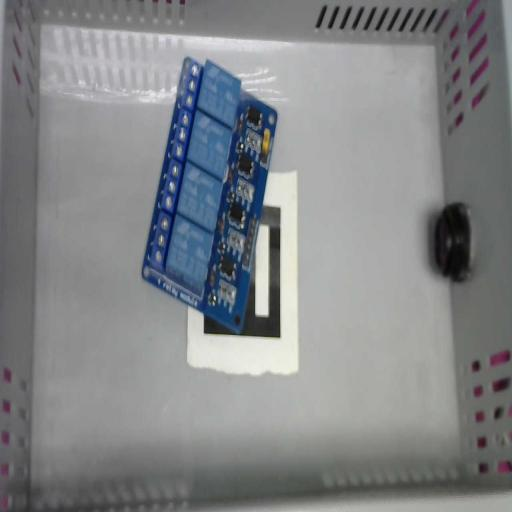relay_module: (141, 56, 278, 336)
